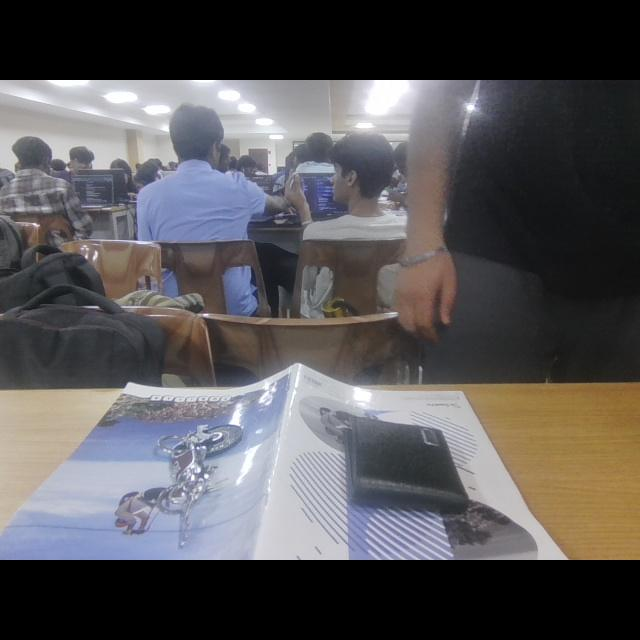keys: (139, 411, 265, 527)
wallet: (340, 396, 474, 522)
